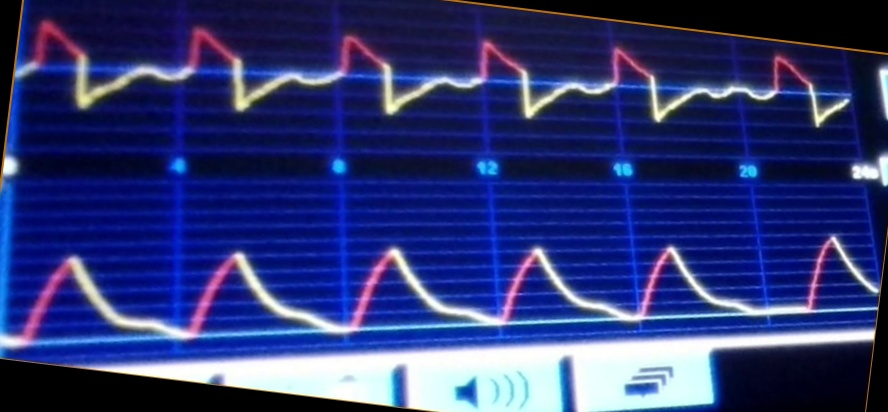Ineffective_effort Flow: (21, 16, 850, 127)
Ineffective_effort Volume: (9, 232, 873, 344)
